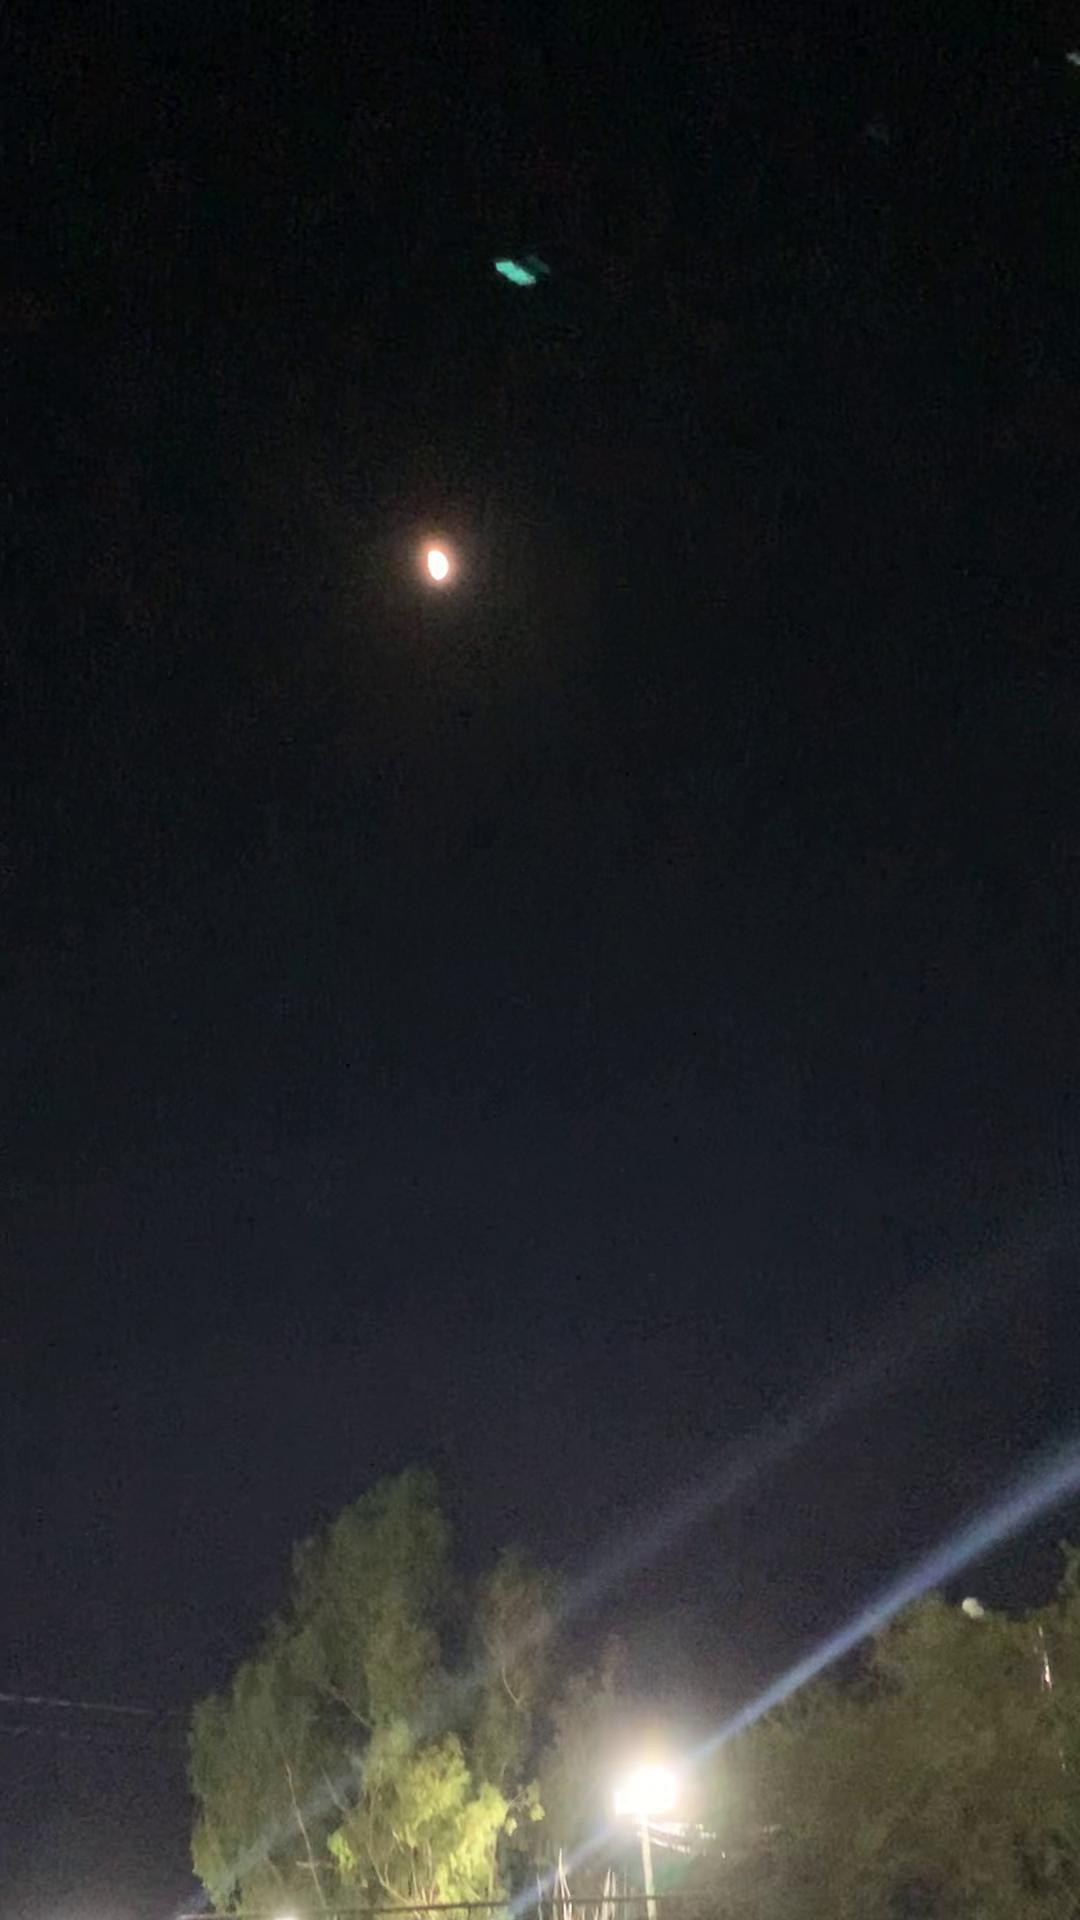moon: (401, 527, 477, 607)
